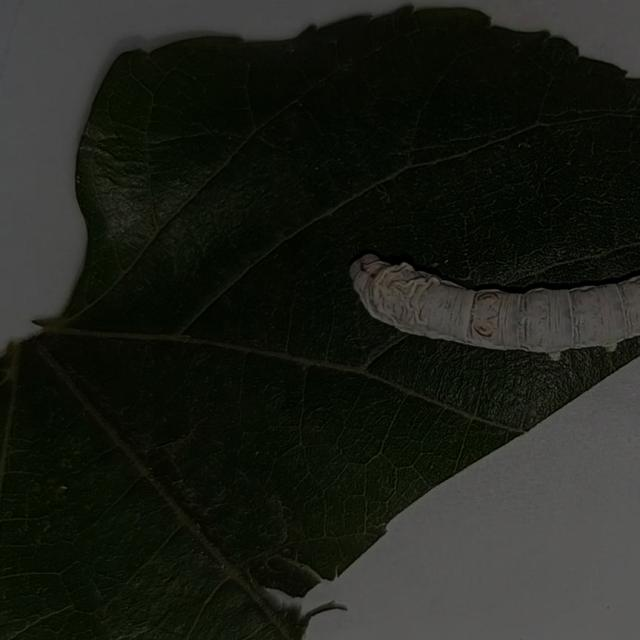Healthy: (307, 216, 640, 376)
